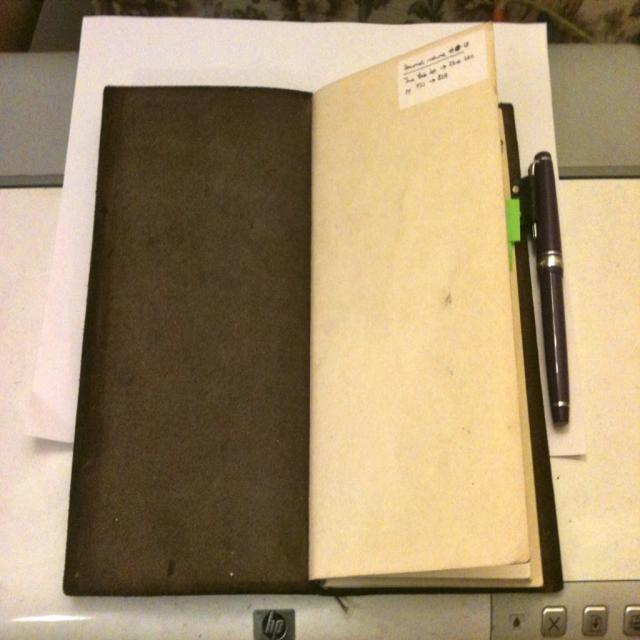pen: (528, 145, 569, 429)
